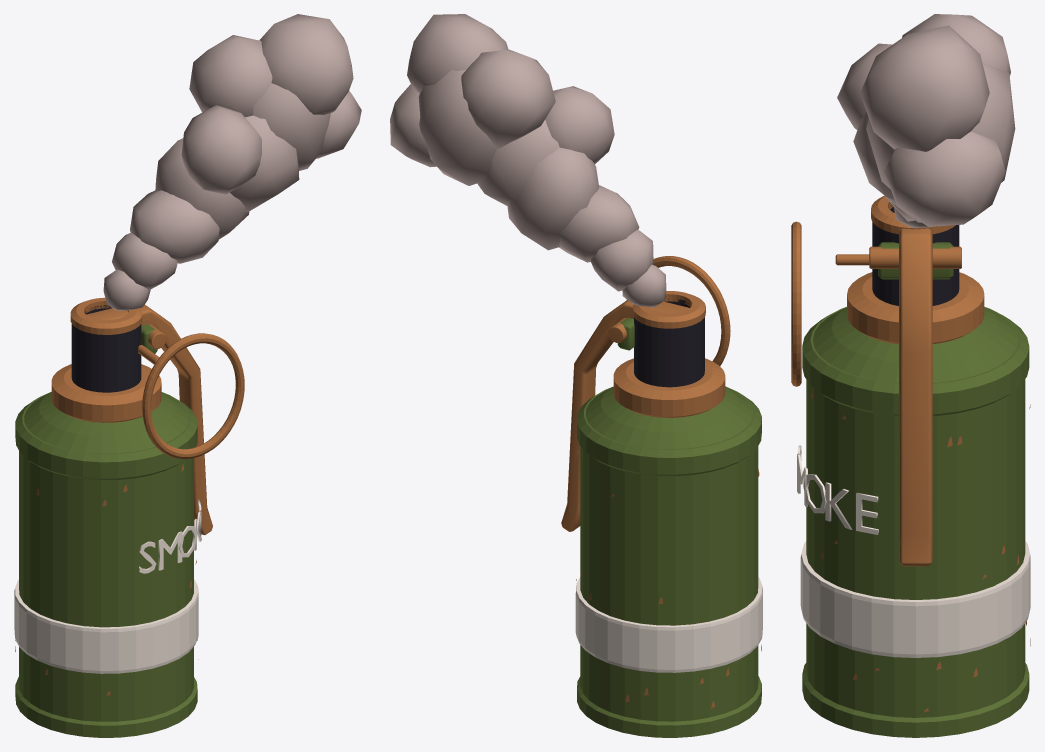
The model's file is thr.smoke-grenade.glb.
3 views of the same model, side by side, from view 1: azimuth 30°, elevation 25°; view 2: azimuth 150°, elevation 25°; view 3: azimuth 270°, elevation 25° (orthographic). The views are drawn at different scales.
Bounding box in the file's own units: 0.3484 × 0.6163 × 0.1707.
